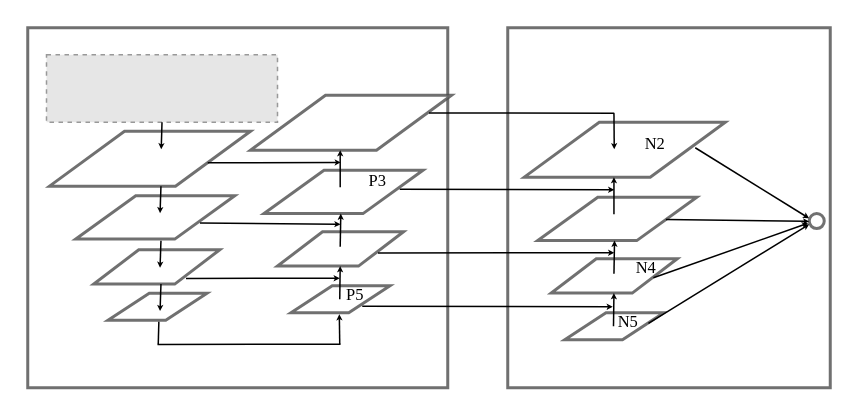
Some shapes in this 857 by 414 pixel diagram are drawn without their labels. Grey dashed boxes stand in for pictures. The box of each missing label's shape, as (x1, y1, x2, y2) in pixels:
N3: (536, 195, 698, 241)
P2: (248, 93, 452, 151)
P4: (275, 230, 404, 267)
